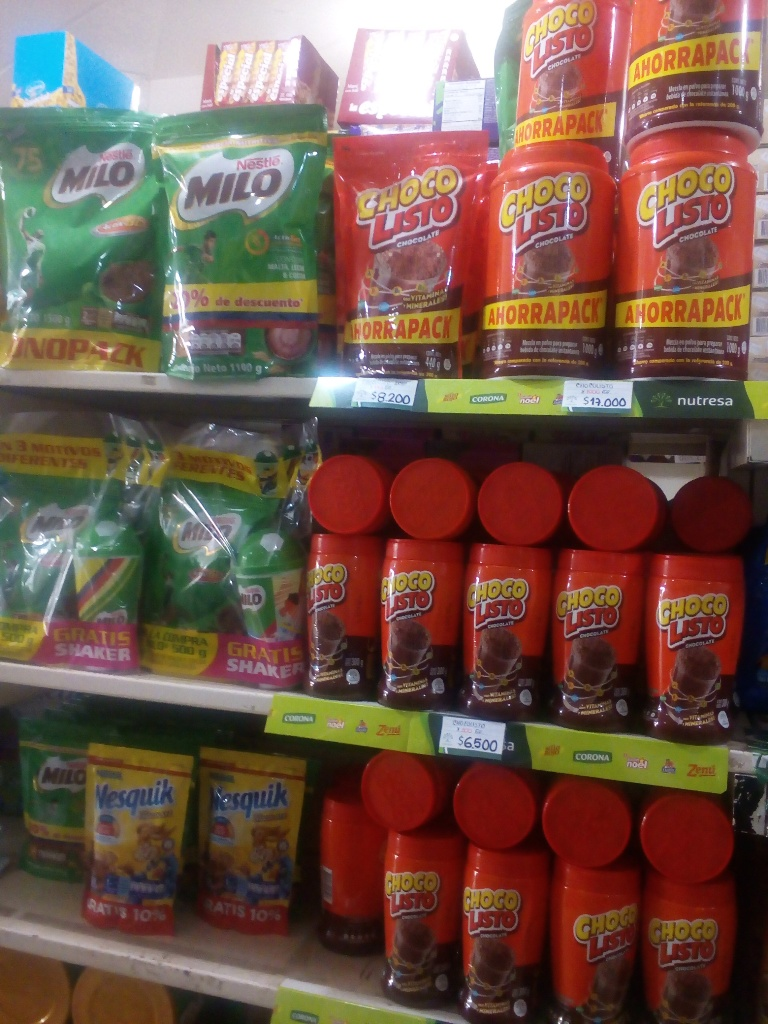COL0170103DYP44000: (331, 125, 490, 382)
COL0170103TRR00100: (479, 136, 621, 383)
